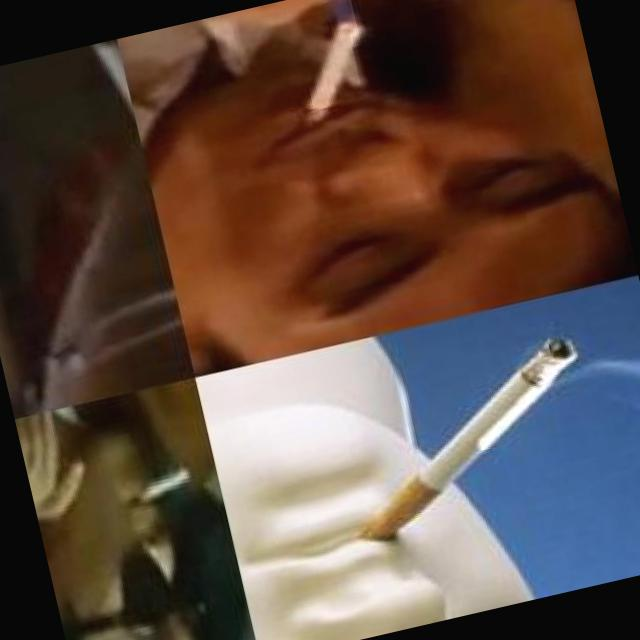cigarette: (322, 330, 612, 560), (88, 41, 156, 228), (279, 17, 386, 132), (126, 462, 196, 510)
